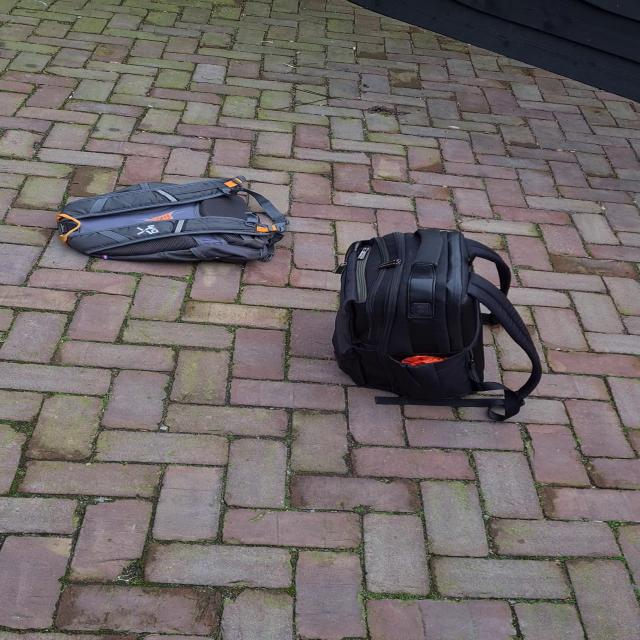backpack: (321, 227, 534, 417), (56, 176, 294, 270)
